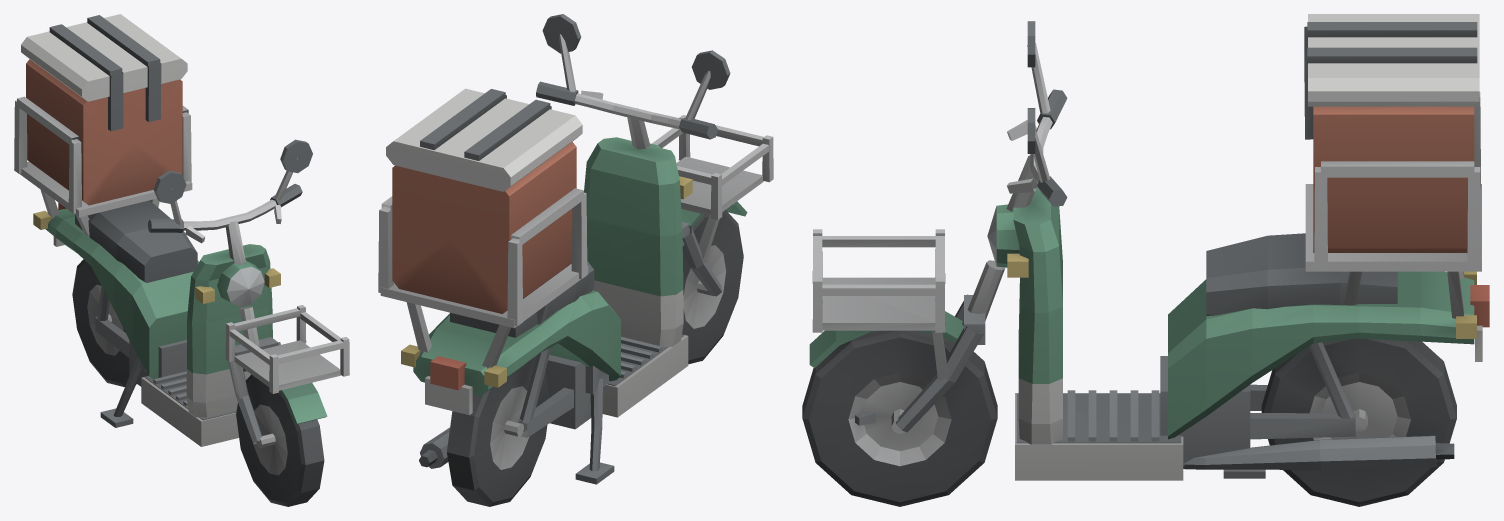
The model's file is moped.glb.
3 renders of one model, left to right at view 1: azimuth 30°, elevation 25°; view 2: azimuth 150°, elevation 25°; view 3: azimuth 270°, elevation 25°, orthographic. The views are drawn at different scales.
Visible parts, largest first — view 1: moped; view 2: moped; view 3: moped.
Part boxes in pixels (x1=…): moped: x1=14, y1=14, x2=349, y2=506; moped: x1=378, y1=14, x2=773, y2=506; moped: x1=802, y1=14, x2=1489, y2=506.
Size of the model in its own units: 0.664 by 1.33 by 1.8.
